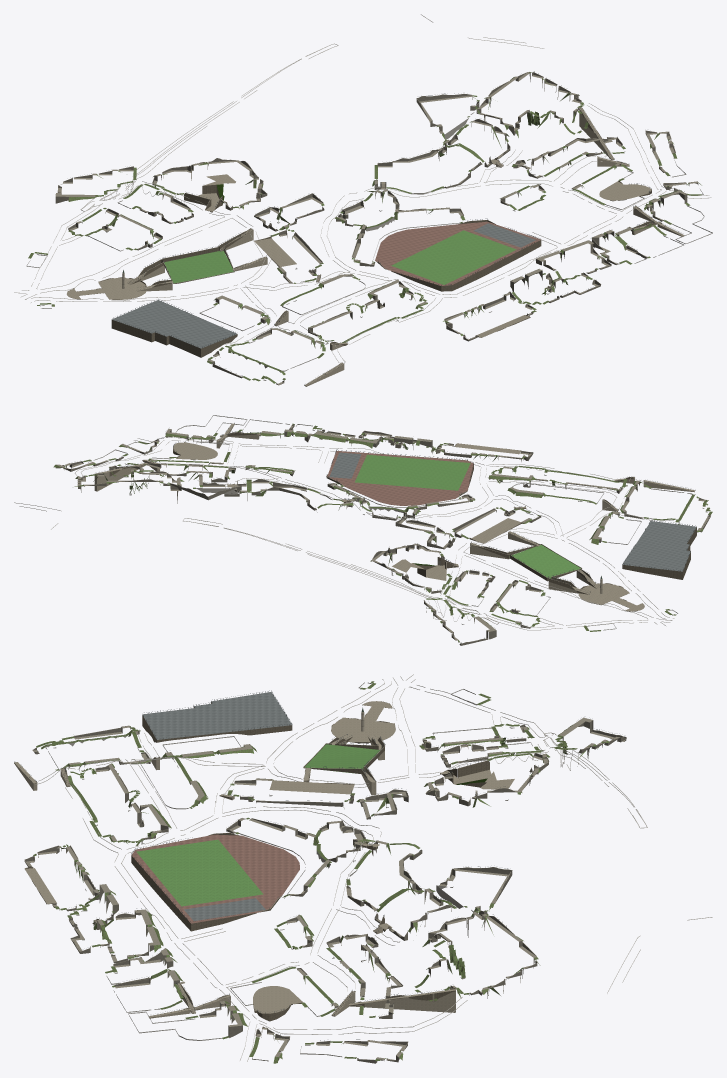
The picture shows the model from 3 angles, top to bottom: view 1: azimuth 30°, elevation 25°; view 2: azimuth 150°, elevation 25°; view 3: azimuth 270°, elevation 25°; orthographic projection. The views are drawn at different scales.
Visible parts, largest first — view 1: apron-wall, apron-slab, site-curb, turf, site-berm, wallGranite, hardCourt, granite, track, tread, apron-coping, apron-bank (+2 smaller); view 2: apron-wall, site-curb, turf, apron-slab, hardCourt, site-berm, granite, track, tread, wallGranite, apron-bank, site-concrete (+3 smaller); view 3: apron-wall, apron-slab, turf, hardCourt, site-curb, site-berm, granite, track, wallGranite, tread, apron-bank, apron-coping (+2 smaller).
Boxes of the visible parts, x1,y1,x2,y2 form: apron-wall: (55,72,698,385); apron-slab: (55,72,698,384); site-curb: (14,14,711,362); turf: (164,230,516,284); site-berm: (28,72,701,383); wallGranite: (73,111,661,386); hardCourt: (112,223,535,348); granite: (67,159,659,337); track: (375,221,540,285); tread: (127,107,684,386); apron-coping: (57,72,686,385); apron-bank: (61,77,701,364); apron-wall: (56,424,710,645); site-curb: (14,436,674,630); turf: (355,454,580,578); apron-slab: (56,425,709,640); hardCourt: (329,452,696,571); site-berm: (81,423,712,631); granite: (173,433,644,611); track: (327,451,473,505); tread: (94,423,694,594); wallGranite: (95,432,696,611); apron-bank: (53,431,703,642); site-concrete: (88,415,707,630); apron-wall: (24,720,626,1063); apron-slab: (26,717,624,1060); turf: (136,744,379,906); hardCourt: (142,692,291,920); site-curb: (35,674,712,1061); site-berm: (33,681,577,1058); granite: (25,701,514,1013); track: (131,834,299,923); wallGranite: (25,701,489,1021); tread: (14,735,455,1018); apron-bank: (60,725,609,1063); apron-coping: (24,725,626,1060).
Bounding box in the file's own units: 567 × 72.75 × 427.
Materials: 19 (13 with a texture image).
